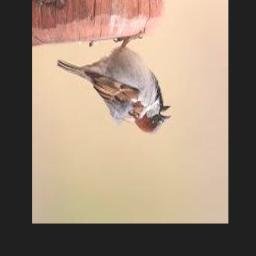Sparrow: (57, 30, 172, 135)
